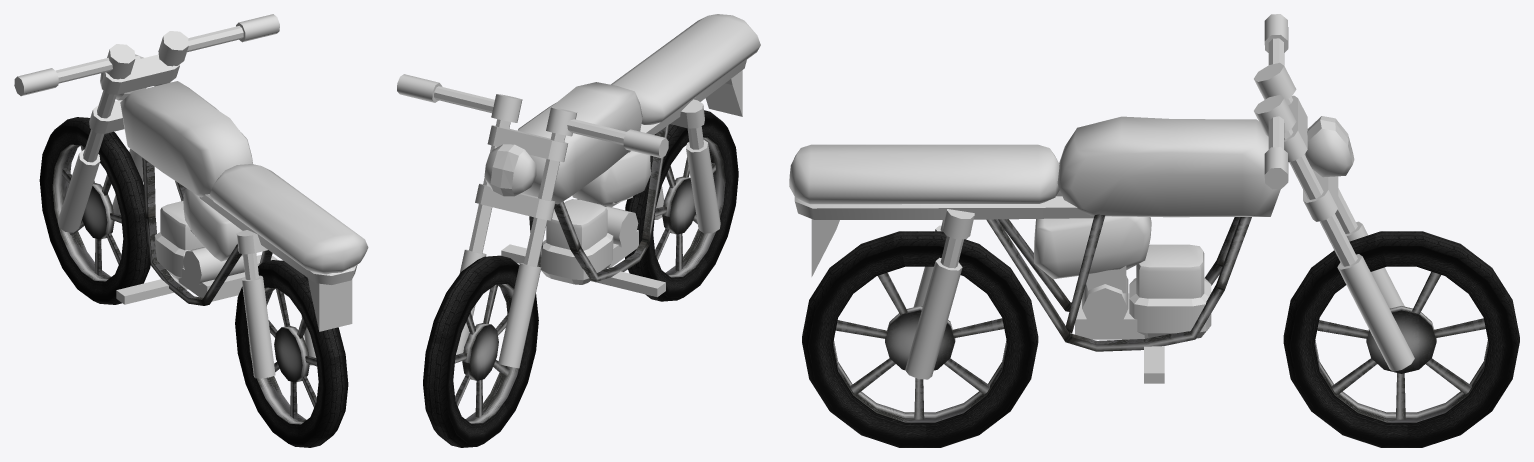
File: delivery_bike.FBX
3 views of the same model, side by side, from view 1: azimuth 30°, elevation 25°; view 2: azimuth 150°, elevation 25°; view 3: azimuth 270°, elevation 25° (orthographic). The views are drawn at different scales.
Parts seen in each view (by area): view 1: Cylinder002, Cylinder006, Cylinder007, Plane002, Object005, Cylinder009, Object004, Plane003, Box001, Box004, Line001, Cylinder008 (+2 smaller); view 2: Cylinder007, Cylinder002, Cylinder006, Object005, Plane002, Box001, Cylinder009, Object004, Plane003, Box005, Box004, Cylinder008 (+2 smaller); view 3: Cylinder002, Cylinder006, Plane002, Object005, Cylinder007, Box001, Object004, Plane003, Cylinder009, Line001, Cylinder008, Box002 (+4 smaller).
Part boxes in pixels (box(x1,y1,x2,y2)): Cylinder002: box(39, 117, 150, 304); Cylinder006: box(235, 260, 348, 447); Cylinder007: box(14, 14, 279, 232); Plane002: box(120, 81, 252, 197); Object005: box(210, 164, 368, 274); Cylinder009: box(236, 230, 316, 378); Object004: box(142, 157, 272, 305); Plane003: box(183, 188, 242, 261); Box001: box(154, 201, 204, 280); Box004: box(308, 278, 352, 331); Line001: box(199, 194, 357, 284); Cylinder008: box(183, 247, 244, 285); Cylinder007: box(397, 74, 668, 368); Cylinder002: box(423, 255, 538, 447); Cylinder006: box(625, 110, 738, 301); Object005: box(611, 14, 760, 124); Plane002: box(518, 82, 642, 204); Box001: box(540, 199, 613, 284); Cylinder009: box(654, 99, 720, 233); Object004: box(529, 125, 668, 281); Plane003: box(572, 151, 650, 207); Box005: box(501, 244, 665, 297); Box004: box(705, 70, 742, 116); Cylinder008: box(606, 206, 638, 247); Cylinder002: box(1283, 231, 1519, 447); Cylinder006: box(802, 231, 1038, 447); Plane002: box(1057, 116, 1280, 217); Object005: box(789, 144, 1059, 204); Cylinder007: box(1254, 14, 1414, 371); Box001: box(1129, 244, 1211, 338); Object004: box(986, 217, 1251, 351); Plane003: box(1034, 216, 1151, 279); Cylinder009: box(905, 209, 974, 379); Line001: box(794, 190, 1094, 219); Cylinder008: box(1082, 276, 1128, 329); Box002: box(1075, 293, 1144, 339).
Bounding box in the file's own units: 168 × 185 × 338.
Materials: 1 (1 with a texture image).
